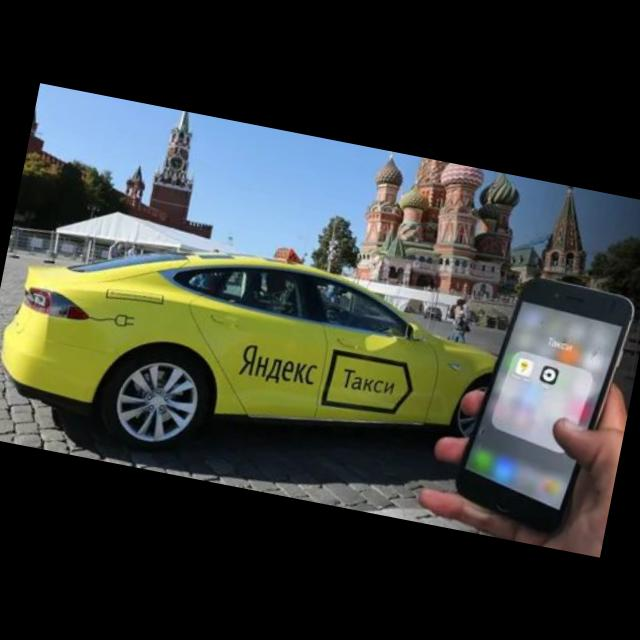taxi: (1, 196, 513, 511)
